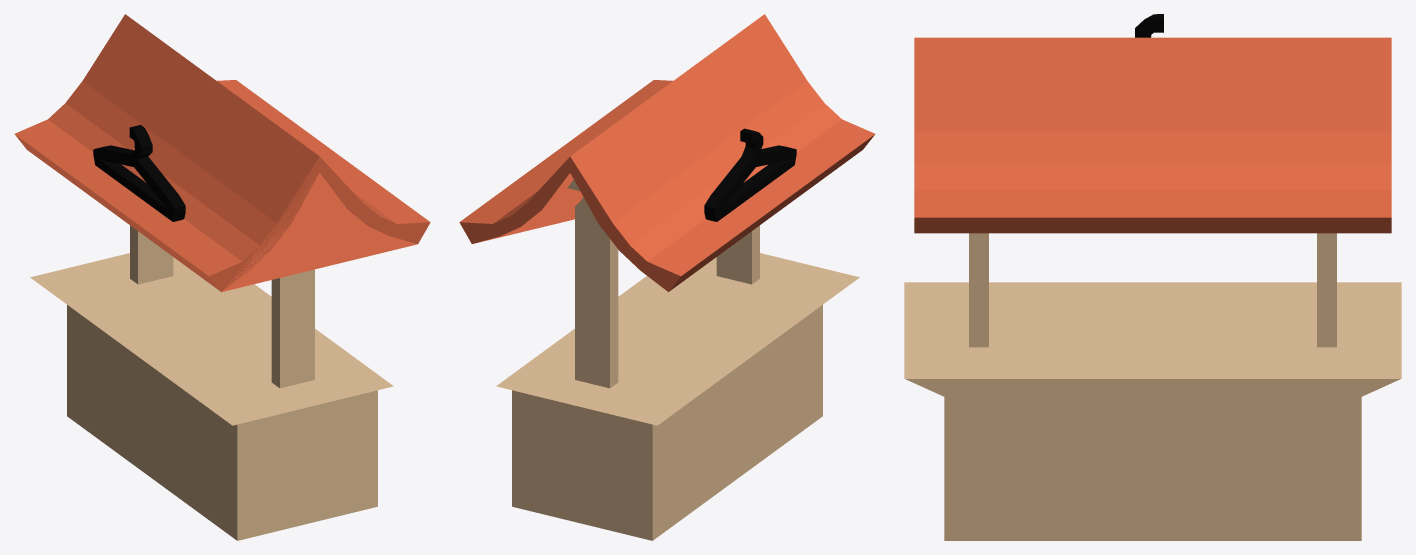
Rendered from cosmetic_stall.fbx.
3 views of the same model, side by side, from view 1: azimuth 30°, elevation 25°; view 2: azimuth 150°, elevation 25°; view 3: azimuth 270°, elevation 25° (orthographic). The views are drawn at different scales.
Visible parts, largest first — view 1: Roof; view 2: Roof; view 3: Roof.
Boxes of the visible parts, x1,y1,x2,y2 form: Roof: (14, 14, 430, 540); Roof: (459, 14, 875, 540); Roof: (904, 14, 1401, 540).
Size of the model in its own units: 49.34 by 80.03 by 78.12.
